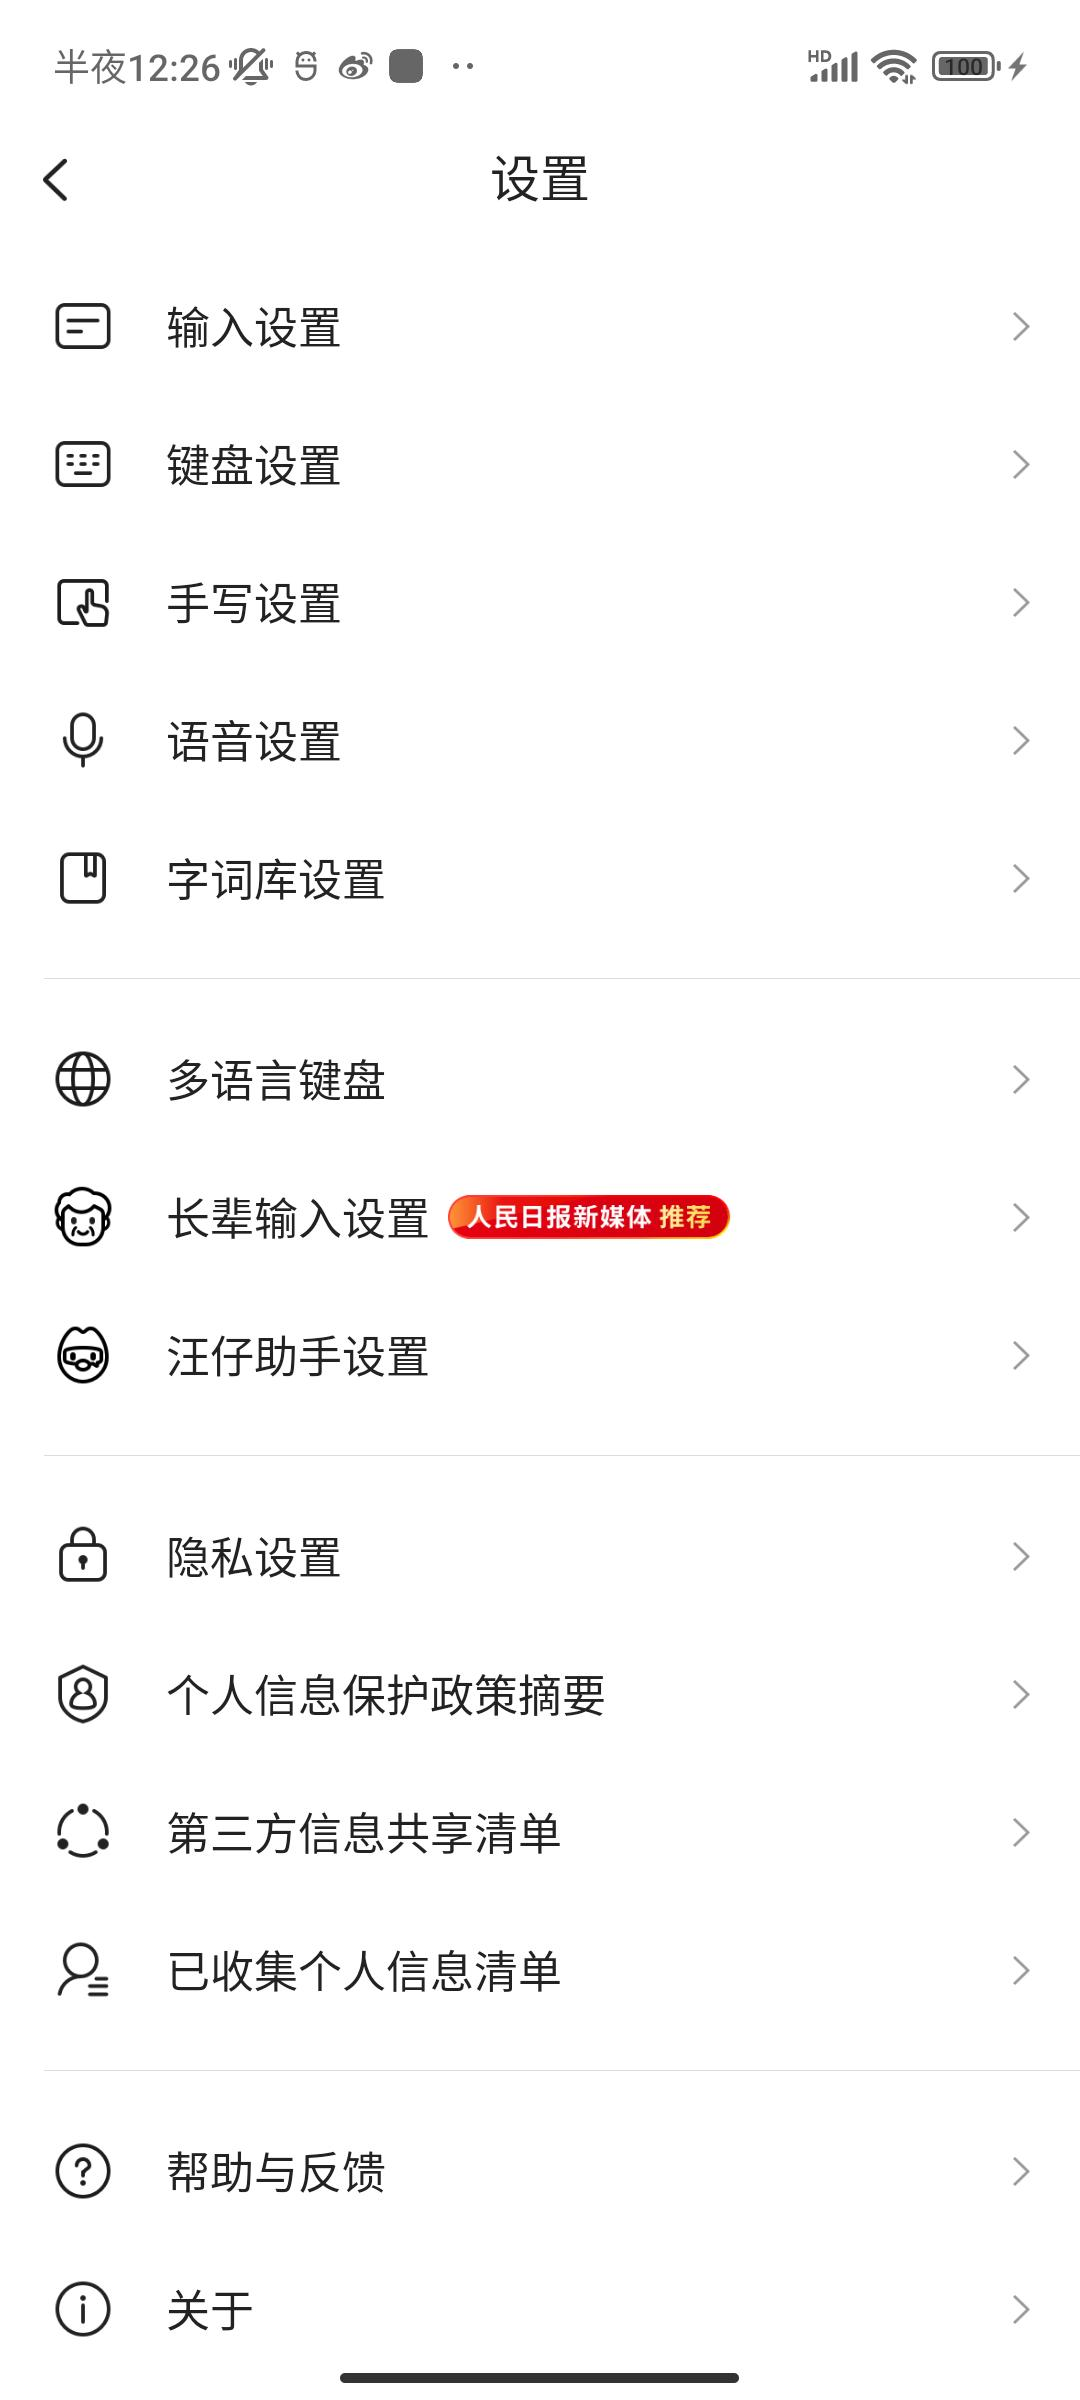ui_group: (20, 1169, 1052, 1272)
